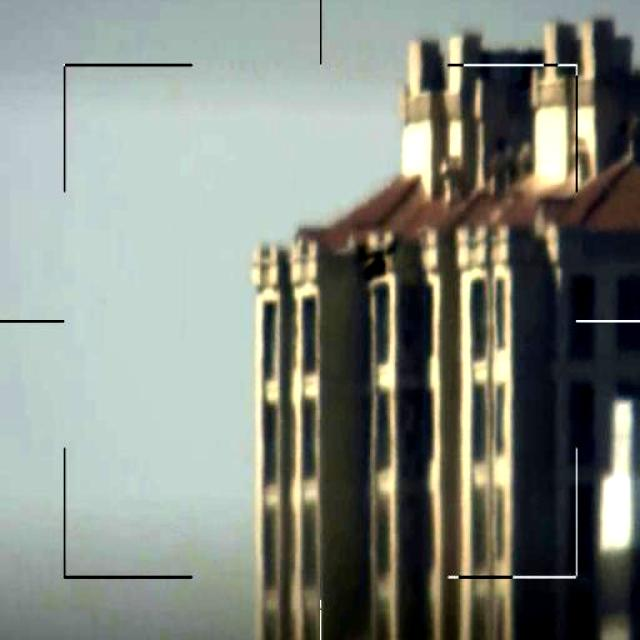bird: (349, 235, 405, 292)
